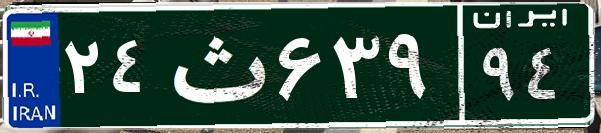2: (57, 26, 110, 107)
3: (330, 28, 385, 110)
4: (110, 28, 158, 105), (525, 38, 570, 115)
6: (273, 28, 330, 110)
9: (385, 28, 445, 110), (475, 38, 525, 113)
ث: (158, 15, 273, 115)
